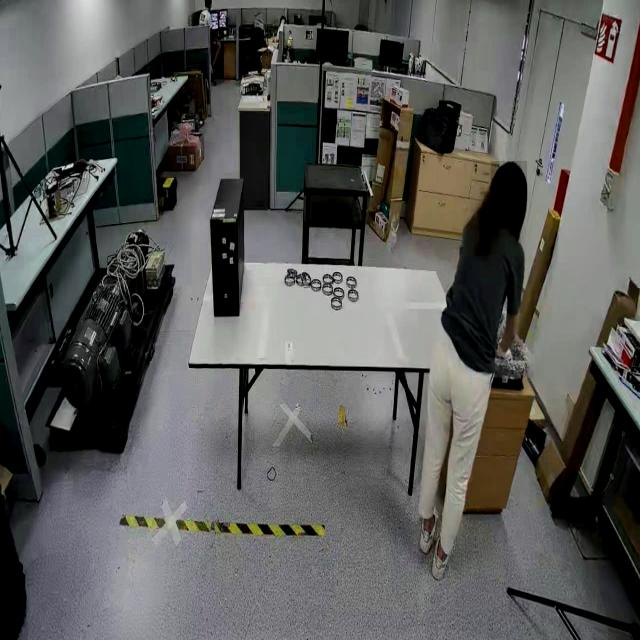head_nohelmet: (490, 161, 527, 193)
person: (402, 160, 542, 589)
shoes: (432, 528, 457, 582), (418, 502, 440, 558)
